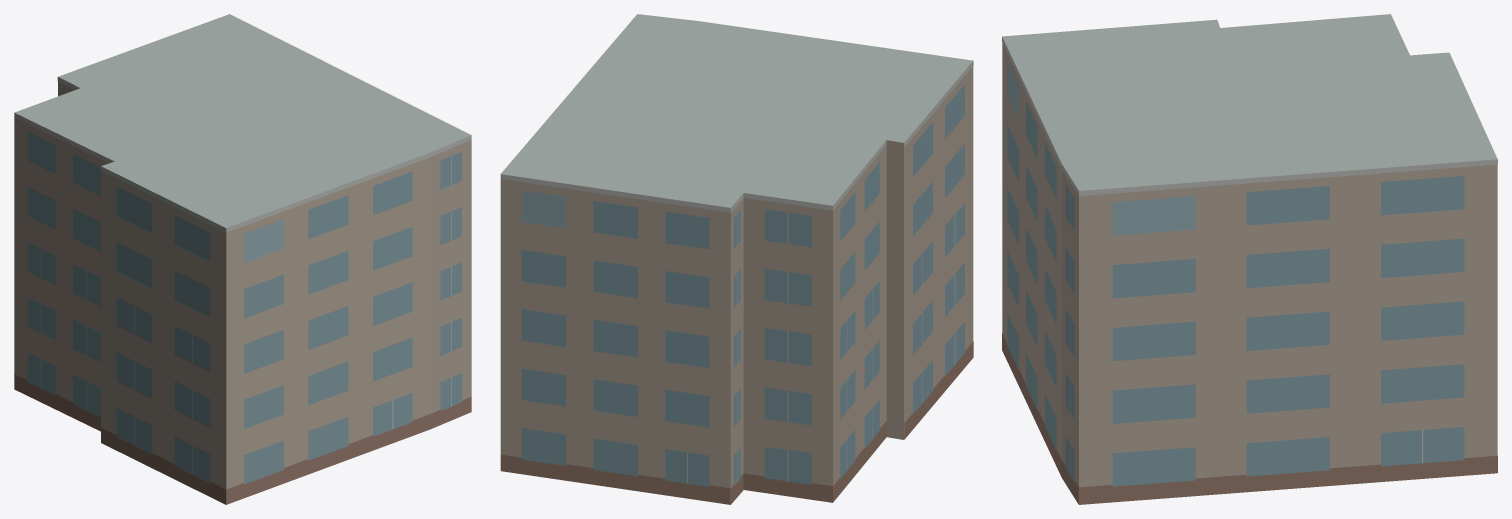
The model's file is survey-upis-32690753.glb.
3 views of the same model, side by side, from view 1: azimuth 30°, elevation 25°; view 2: azimuth 150°, elevation 25°; view 3: azimuth 270°, elevation 25° (orthographic). The views are drawn at different scales.
Parts seen in each view (by area): view 1: survey-upis-32690753.tmp; view 2: survey-upis-32690753.tmp; view 3: survey-upis-32690753.tmp.
Part boxes in pixels (x1=…): survey-upis-32690753.tmp: x1=14, y1=14, x2=471, y2=504; survey-upis-32690753.tmp: x1=500, y1=14, x2=973, y2=504; survey-upis-32690753.tmp: x1=1002, y1=14, x2=1497, y2=504.
Bounding box in the file's own units: 17.87 × 14.76 × 21.14.
